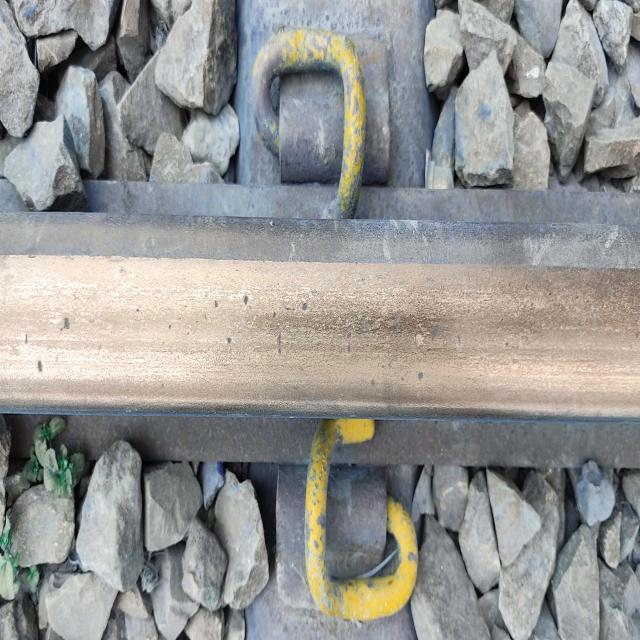Good Fasteners: (246, 404, 444, 630), (246, 15, 419, 222)
